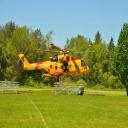helicopter: (17, 40, 97, 84)
